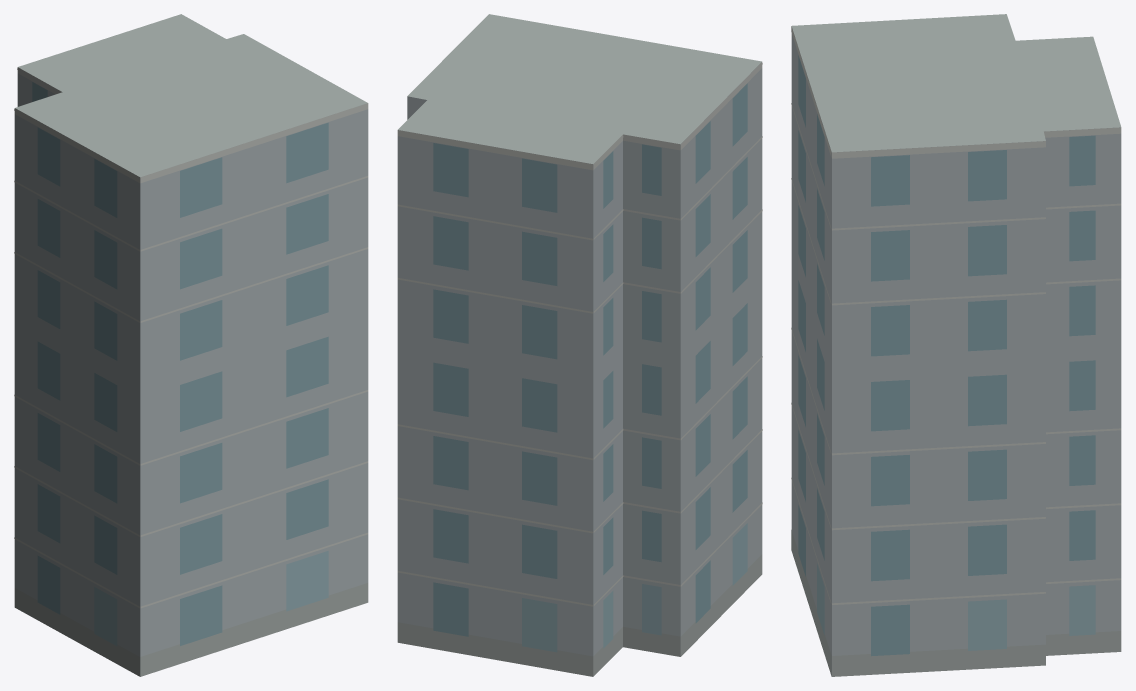
Rendered from survey-upis-32789208.glb.
3 views of the same model, side by side, from view 1: azimuth 30°, elevation 25°; view 2: azimuth 150°, elevation 25°; view 3: azimuth 270°, elevation 25° (orthographic). The views are drawn at different scales.
Parts seen in each view (by area): view 1: survey-upis-32789208.tmp; view 2: survey-upis-32789208.tmp; view 3: survey-upis-32789208.tmp.
Part boxes in pixels (<box>): survey-upis-32789208.tmp: <box>14,14,368,676</box>; survey-upis-32789208.tmp: <box>397,14,762,676</box>; survey-upis-32789208.tmp: <box>791,14,1121,676</box>.
Size of the model in its own units: 11.34 by 20 by 11.43.
